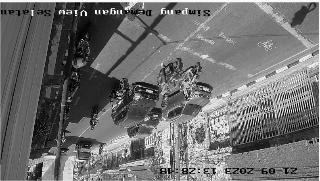mobil: (108, 77, 158, 127)
motor: (108, 72, 124, 112), (88, 103, 99, 130)
